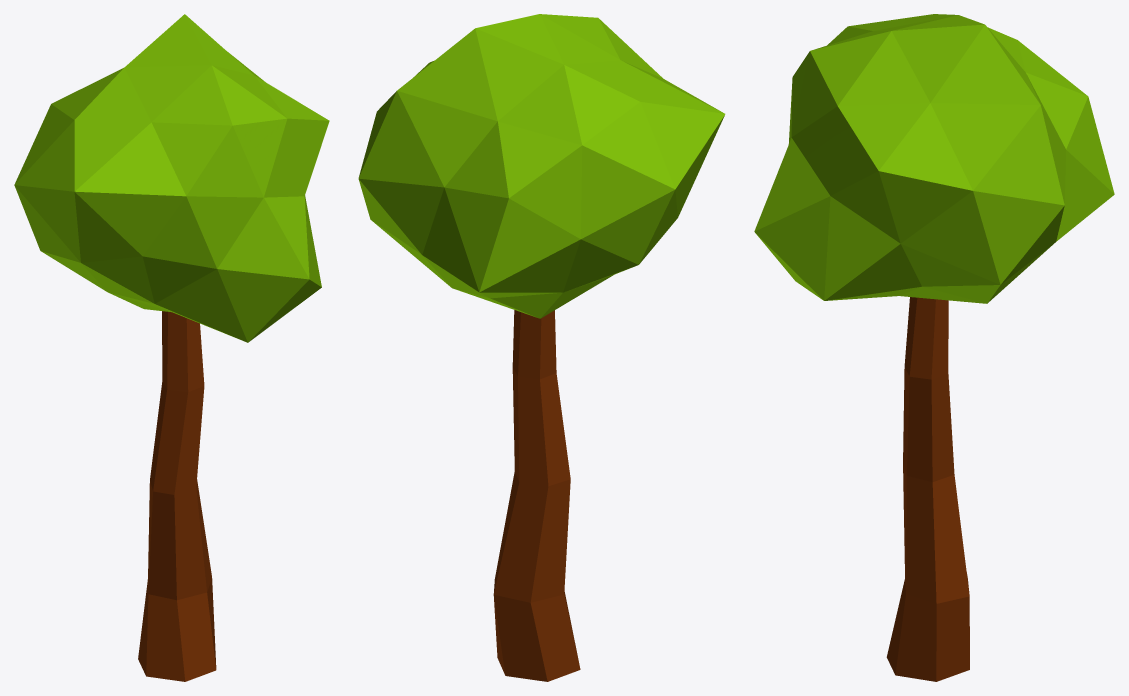
The model's file is Tree_3_Green.fbx.
The picture shows the model from 3 angles, left to right: view 1: azimuth 30°, elevation 25°; view 2: azimuth 150°, elevation 25°; view 3: azimuth 270°, elevation 25°; orthographic projection. The views are drawn at different scales.
Visible parts, largest first — view 1: pPlatonic1, pCylinder2; view 2: pPlatonic1, pCylinder2; view 3: pPlatonic1, pCylinder2.
Boxes of the visible parts, <box> form: pPlatonic1: <box>14,14,329,342</box>; pCylinder2: <box>138,311,216,681</box>; pPlatonic1: <box>358,14,725,318</box>; pCylinder2: <box>493,310,580,681</box>; pPlatonic1: <box>754,14,1114,303</box>; pCylinder2: <box>886,297,969,681</box>.
Bounding box in the file's own units: 523 × 1104 × 549.
